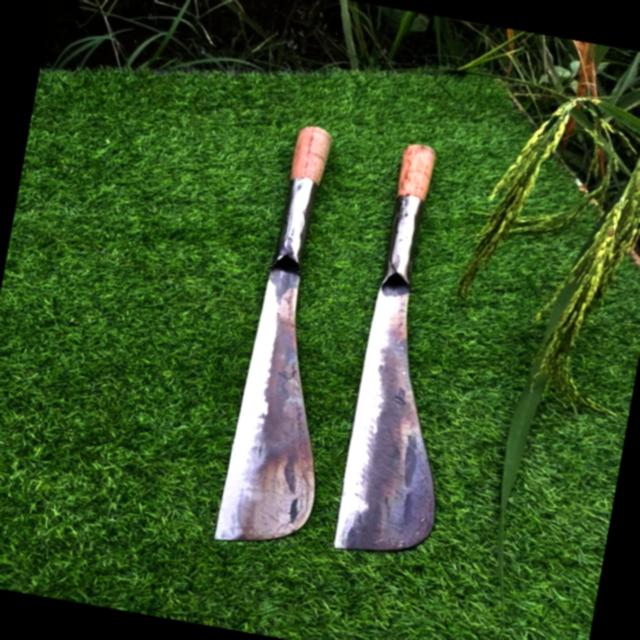eto: (212, 114, 337, 542), (324, 141, 443, 559)
